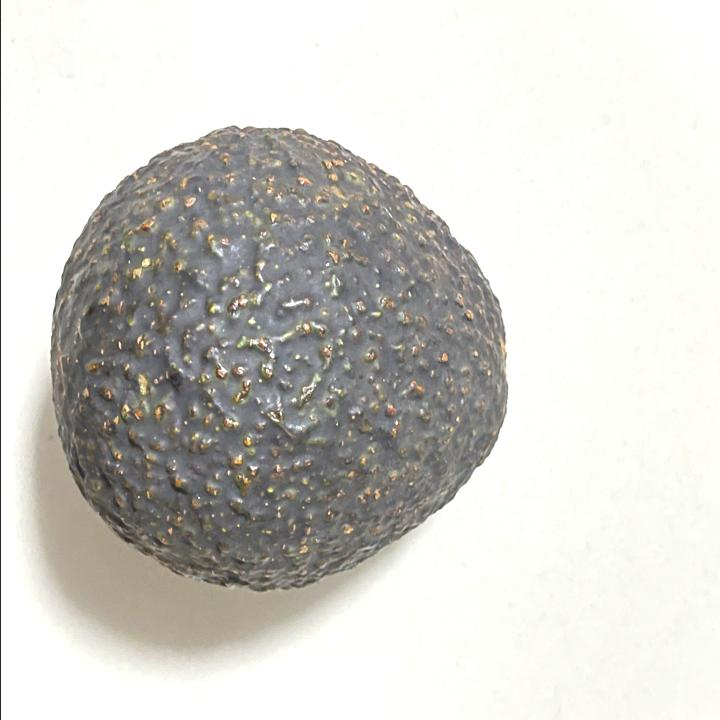Level1: (42, 105, 522, 608)
